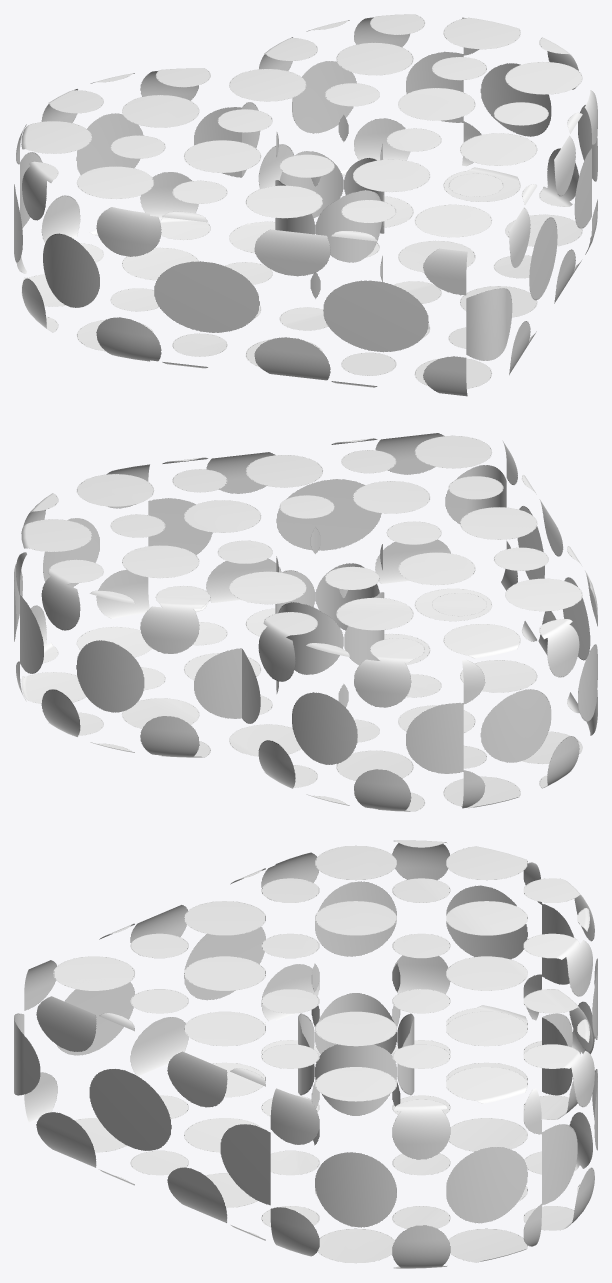
3 renders of one model, top to bottom at view 1: azimuth 30°, elevation 25°; view 2: azimuth 150°, elevation 25°; view 3: azimuth 270°, elevation 25°, orthographic. The views are drawn at different scales.
Parts seen in each view (by area): view 1: Heart.011; view 2: Heart.011; view 3: Heart.011.
Boxes of the visible parts, <box> form: Heart.011: <box>14,14,597,396</box>; Heart.011: <box>14,433,597,811</box>; Heart.011: <box>14,840,597,1268</box>.
Bounding box in the file's own units: 264 × 72 × 236.
